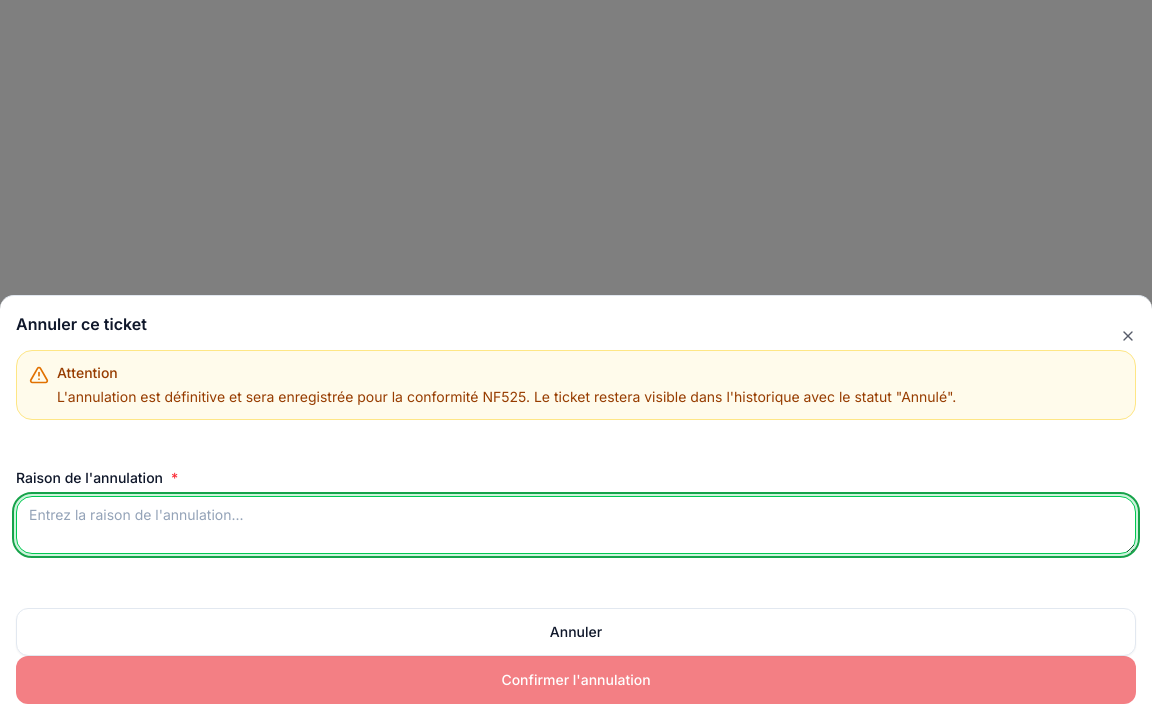
it: CancellationDialog › Reason Required Validation (AC #2) › enables confirm button when reason is entered
This screenshot has width=1152, height=720.
In the text box with placeholder "Entrez la raison de l'annulation...": (576, 525) 16,496 -> 1136,554, type "Erreur de saisie"
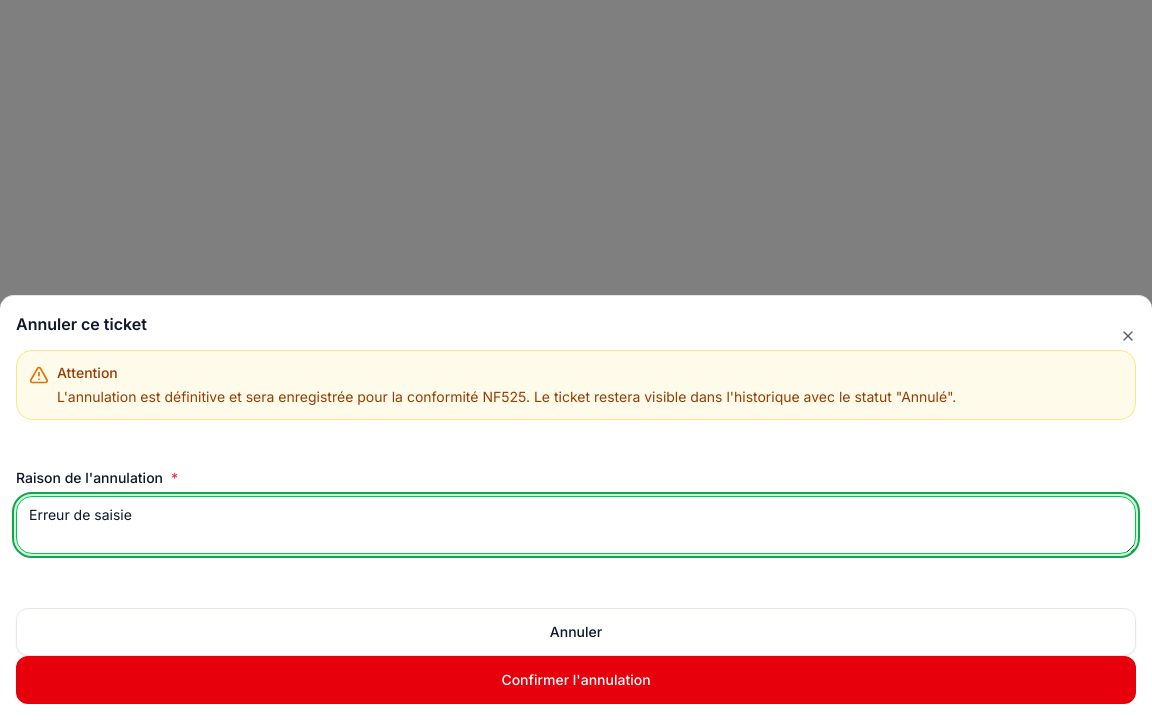
Now the button "Confirmer l'annulation" is enabled, box 16,656 -> 1136,704
